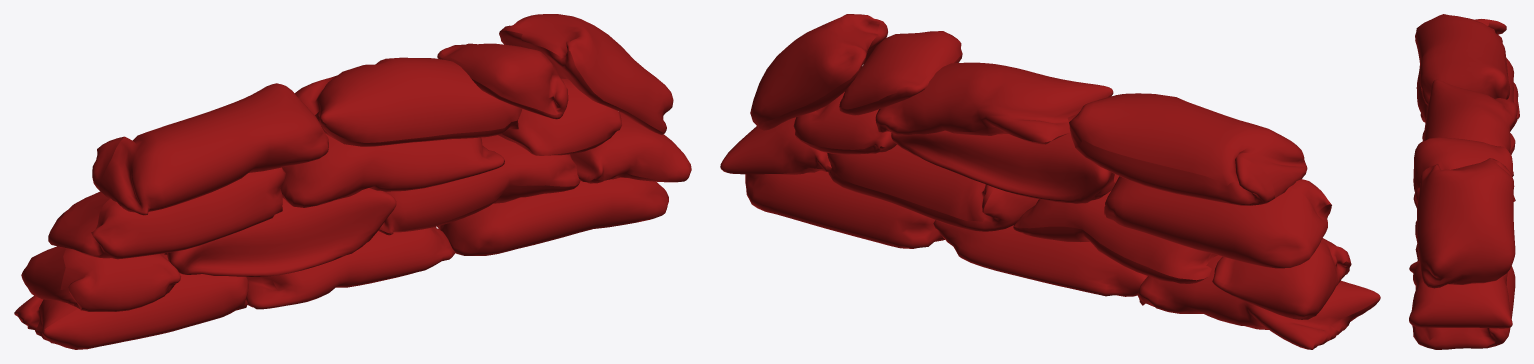
The model's file is SM_Sandbags01.FBX.
3 views of the same model, side by side, from view 1: azimuth 30°, elevation 25°; view 2: azimuth 150°, elevation 25°; view 3: azimuth 270°, elevation 25° (orthographic). The views are drawn at different scales.
Visible parts, largest first — view 1: SM_Sandbags01; view 2: SM_Sandbags01; view 3: SM_Sandbags01.
Part boxes in pixels (<box>): SM_Sandbags01: <box>14,14,691,349</box>; SM_Sandbags01: <box>720,14,1380,349</box>; SM_Sandbags01: <box>1409,14,1519,349</box>.
Size of the model in its own units: 522 by 149 by 98.77.
